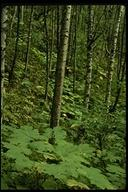tree: (3, 6, 123, 188)
